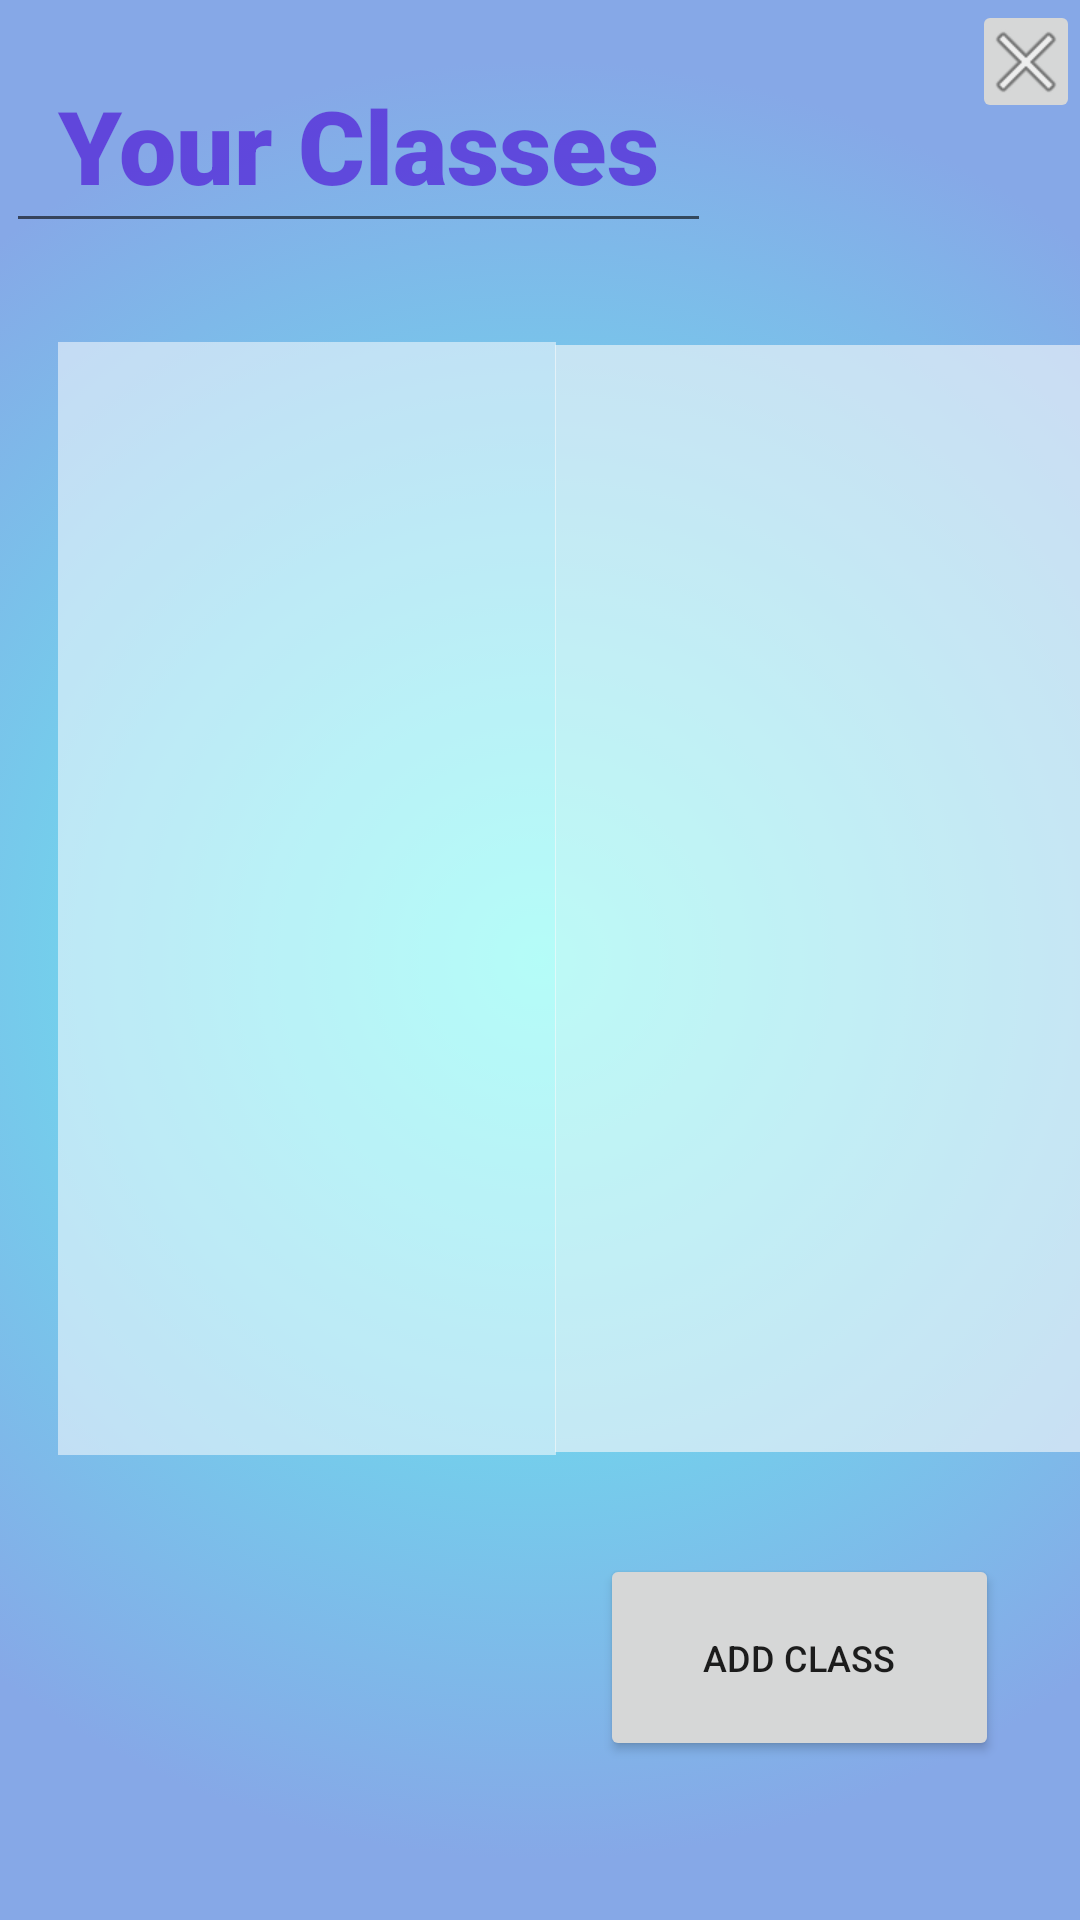

Screen size 1080px x 1920px. Icon name, then its box in pixels as (x1, y1, x2, y2):
close clear cancel: (984, 18, 1068, 105)
